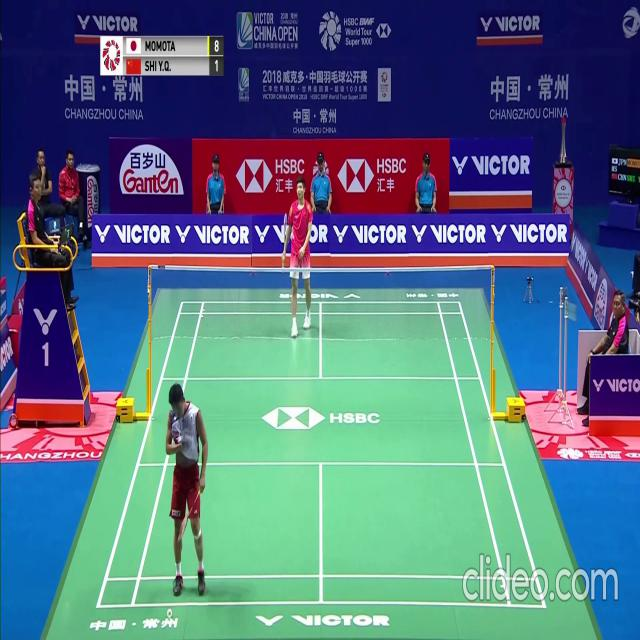Shuttlecock: (167, 608, 172, 615)
